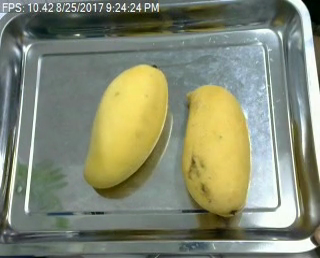Mango: (79, 58, 172, 192), (182, 81, 251, 218)
